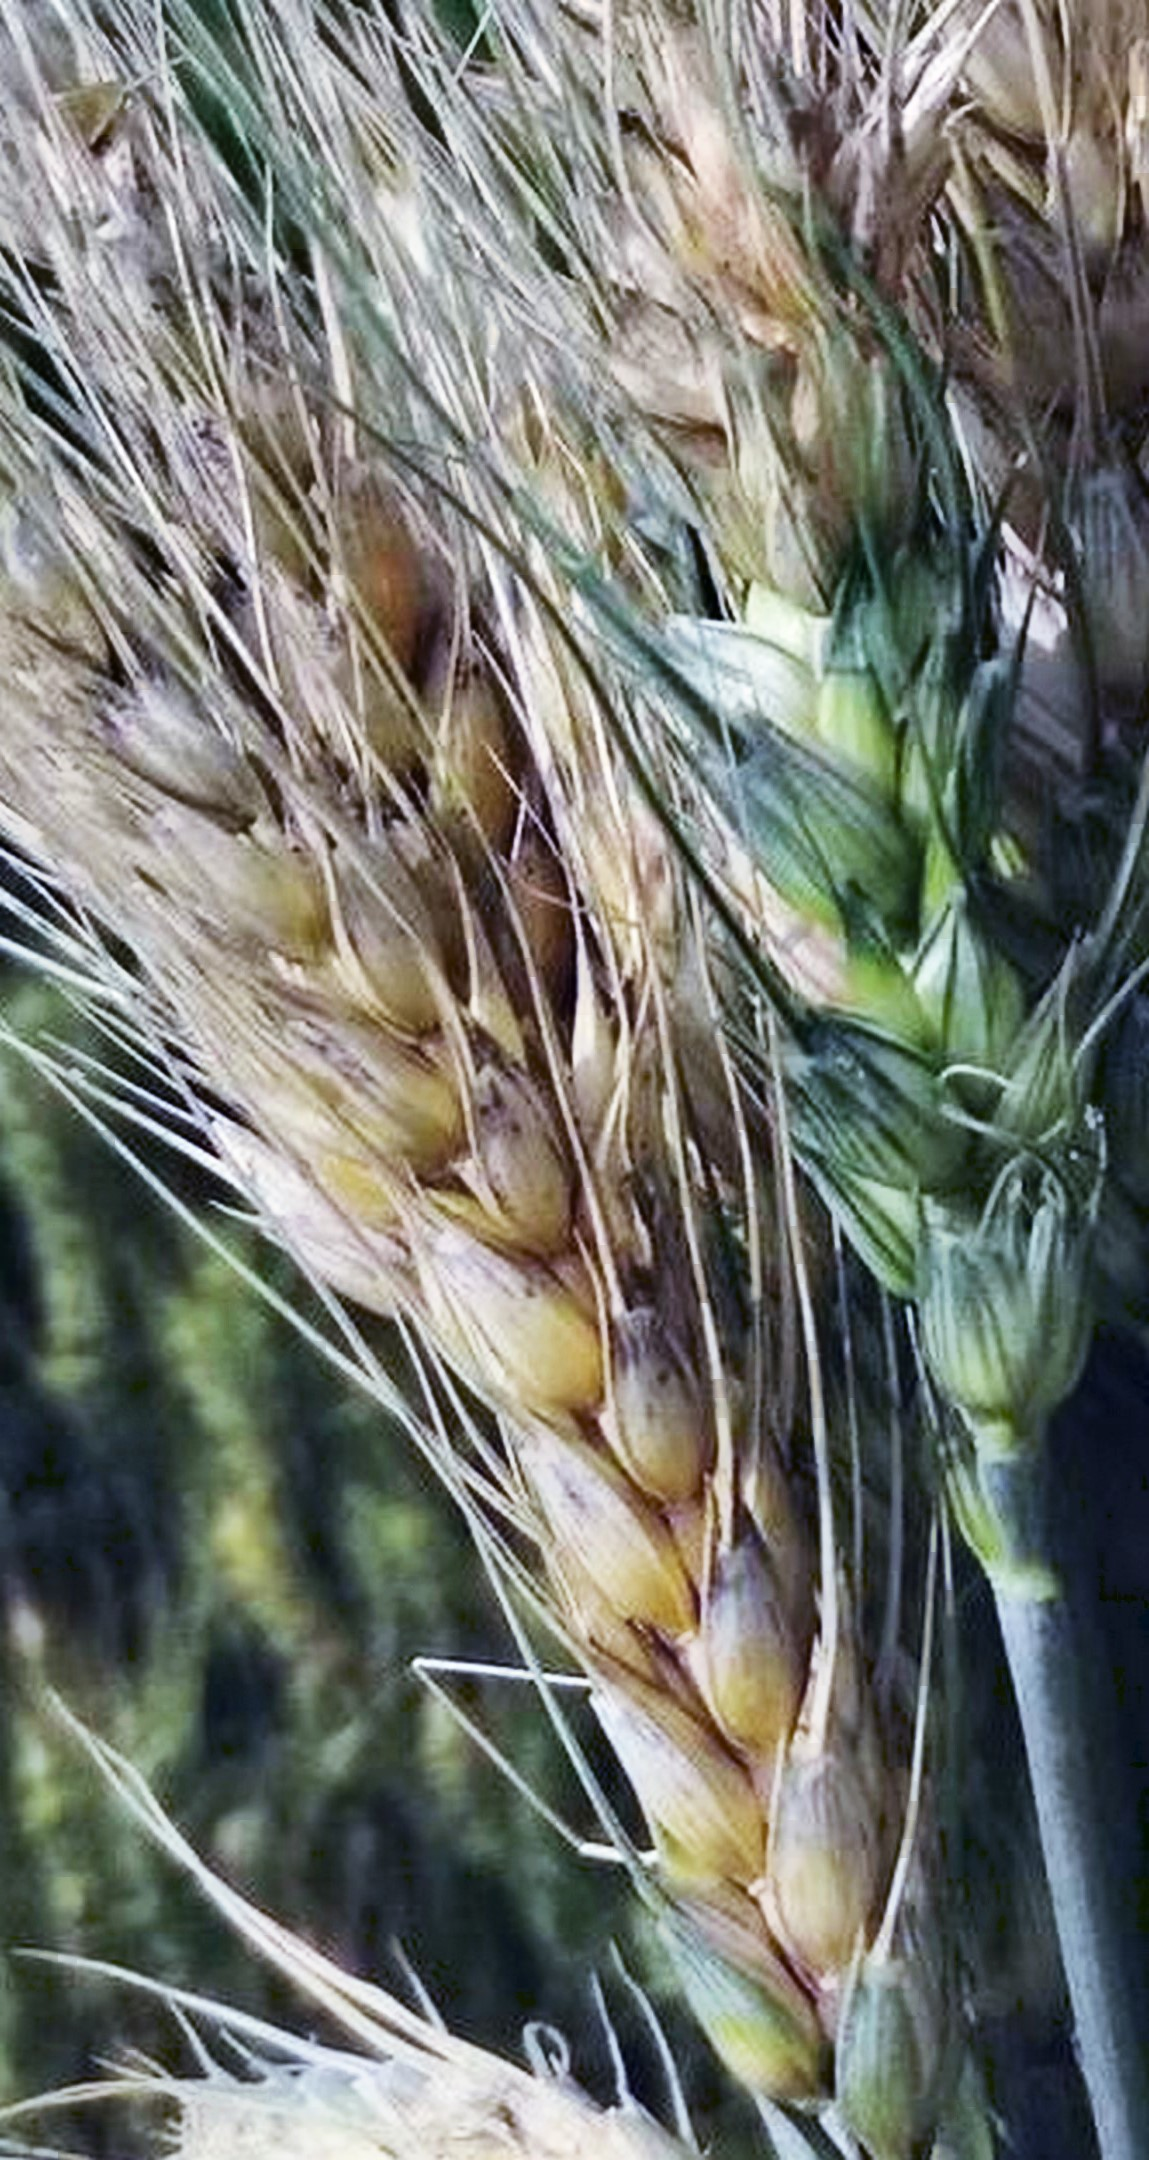Wheat scab: (50, 756, 945, 2114)
